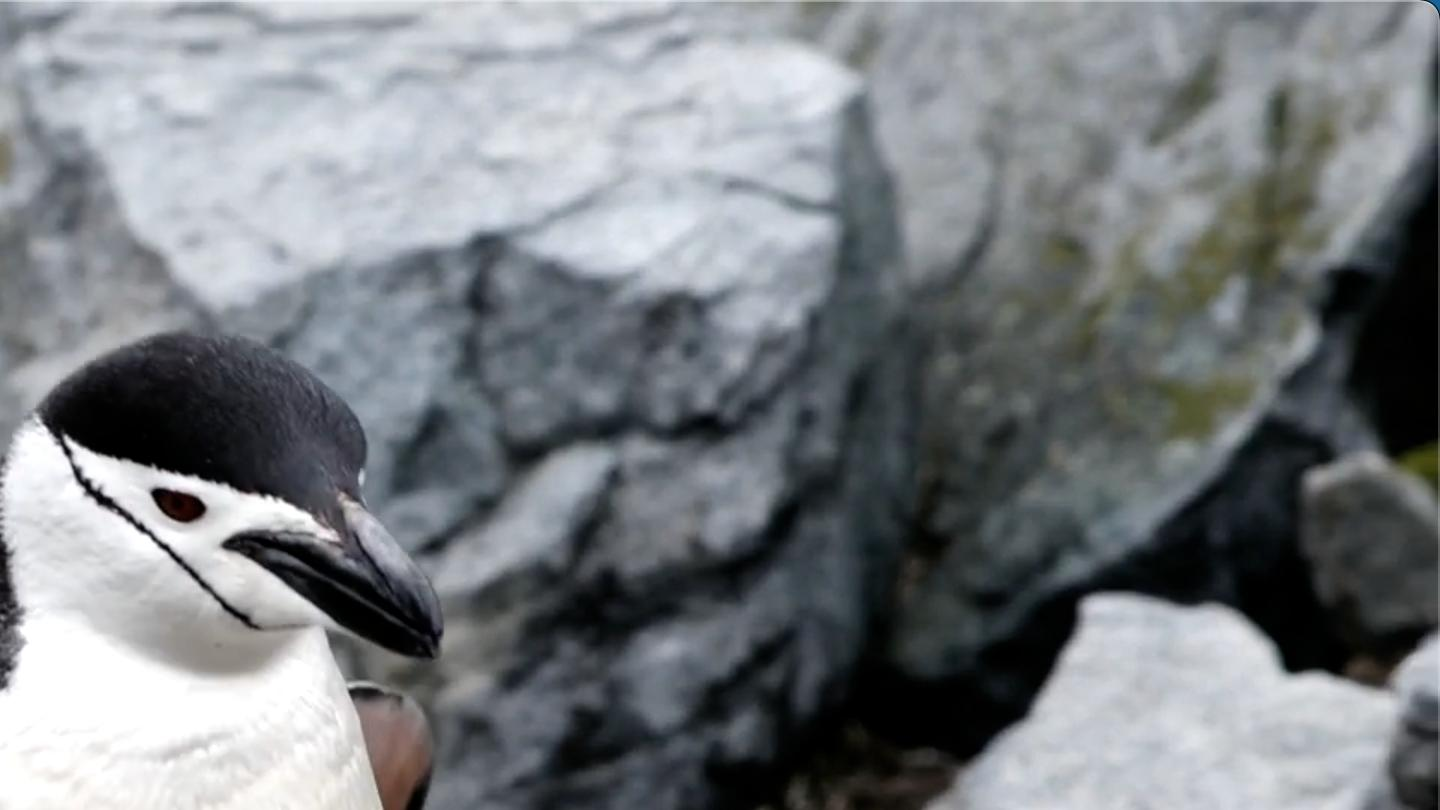Chinstrap Penguin: (0, 285, 483, 810)
